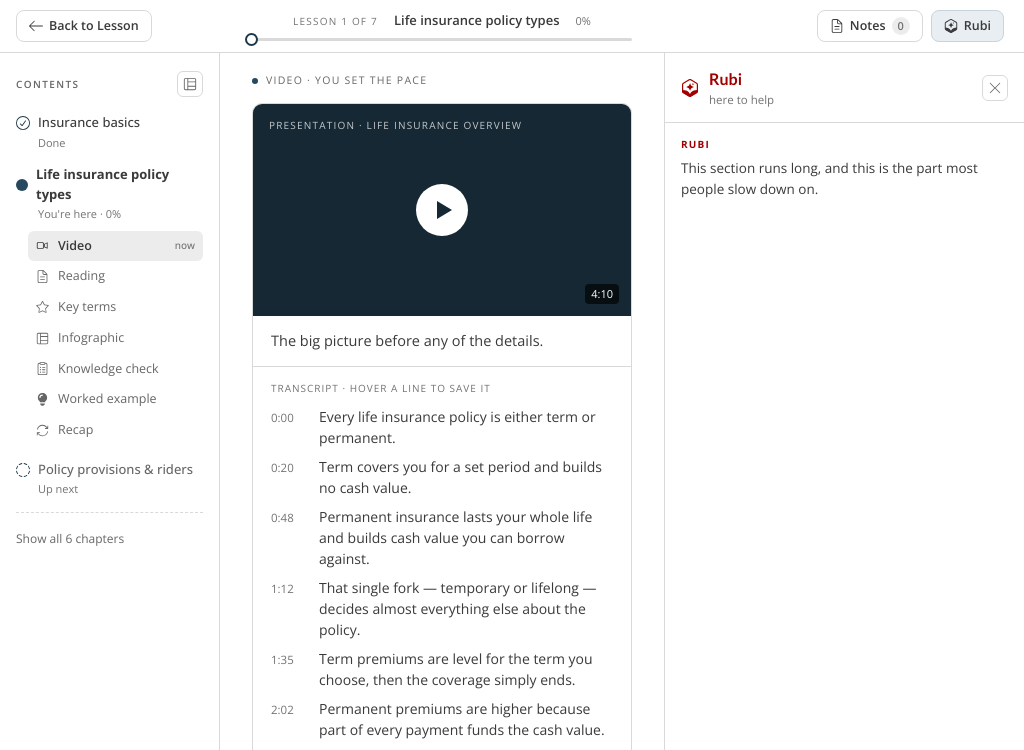
Test: the Key terms beat › each term is its own card, so rating one does not open the rest
The image size is (1024, 750).
Click the button "Key terms": {"x": 116, "y": 307} x1=28 y1=292 x2=203 y2=323
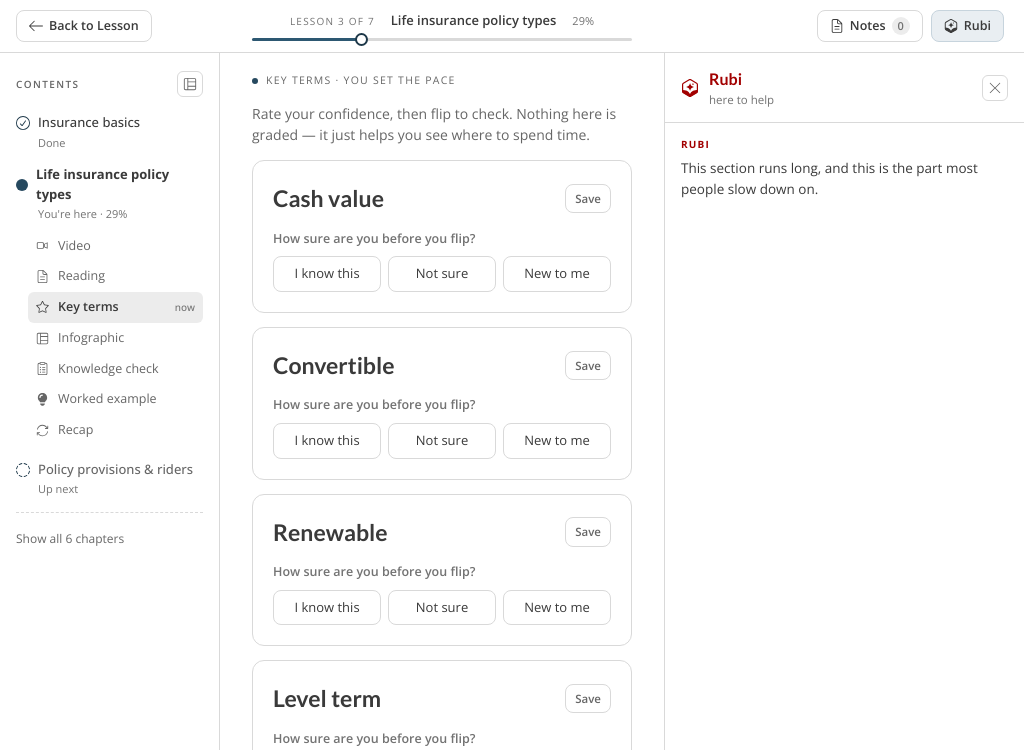
Click the button "I know this" below "Cash value": {"x": 327, "y": 274} x1=273 y1=256 x2=381 y2=292
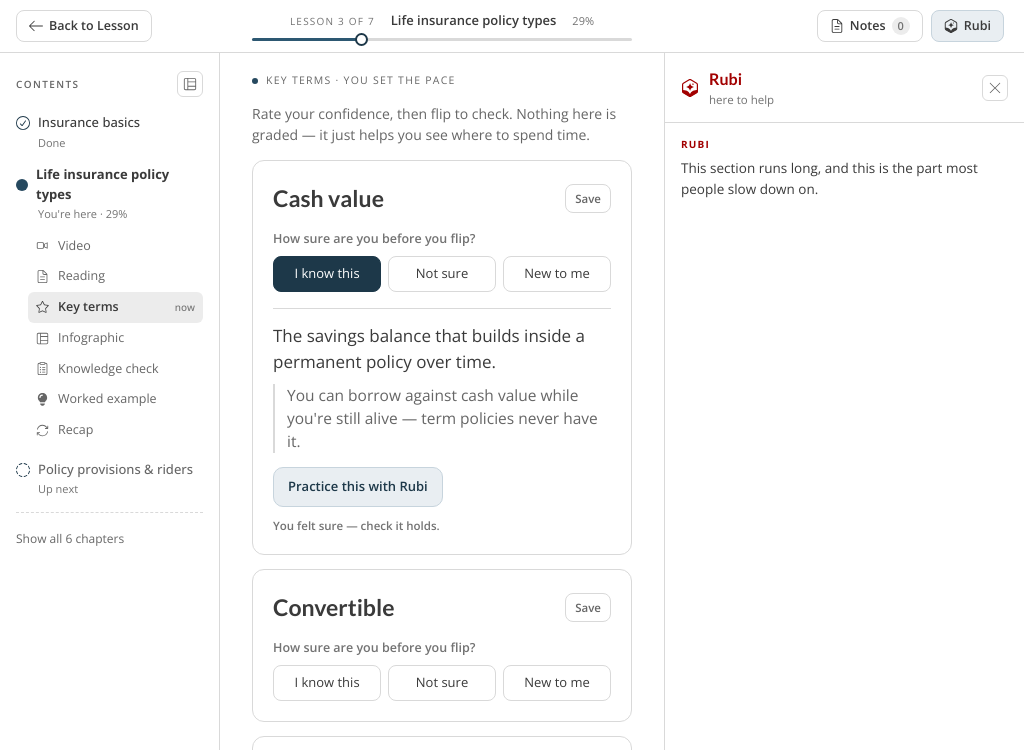
Expected: the number of buttons "Practice this with Rubi" is 1, x1=273 y1=467 x2=443 y2=507
